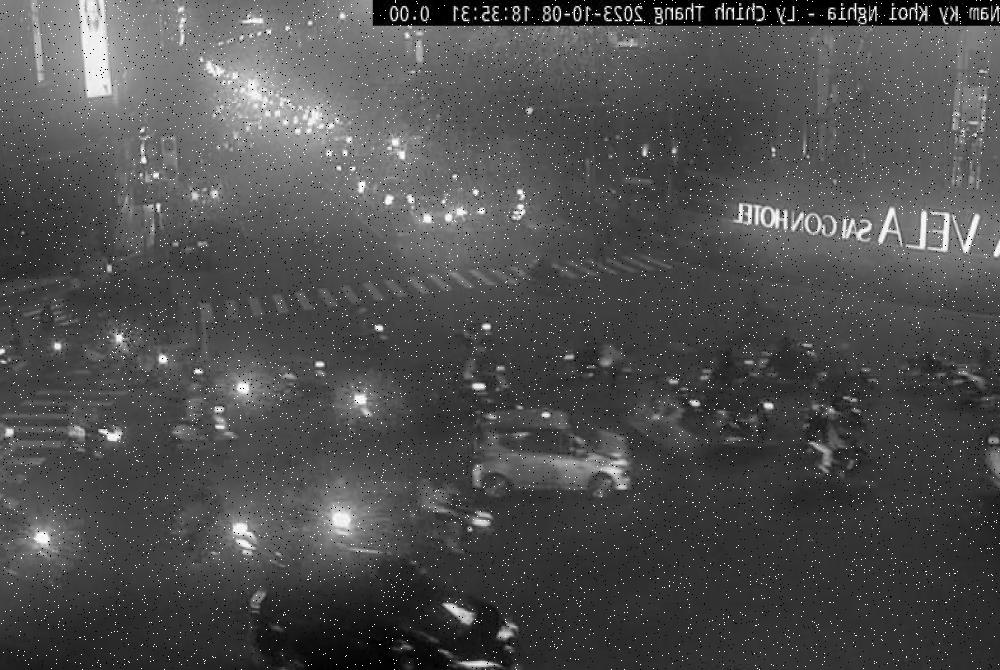car: (468, 402, 634, 506), (976, 423, 1000, 499)
